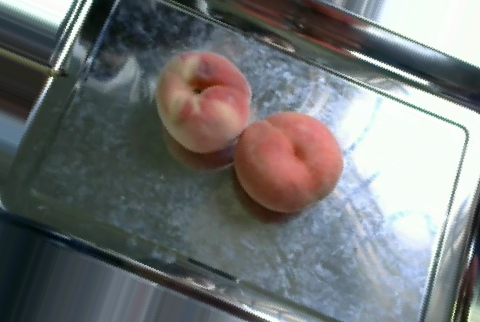Peach: (236, 112, 342, 214), (155, 51, 252, 153)
